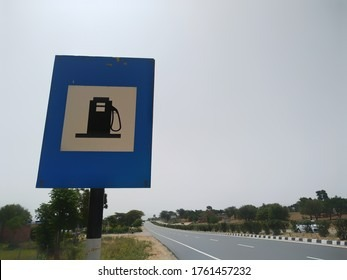fuel-station: (39, 55, 152, 192)
